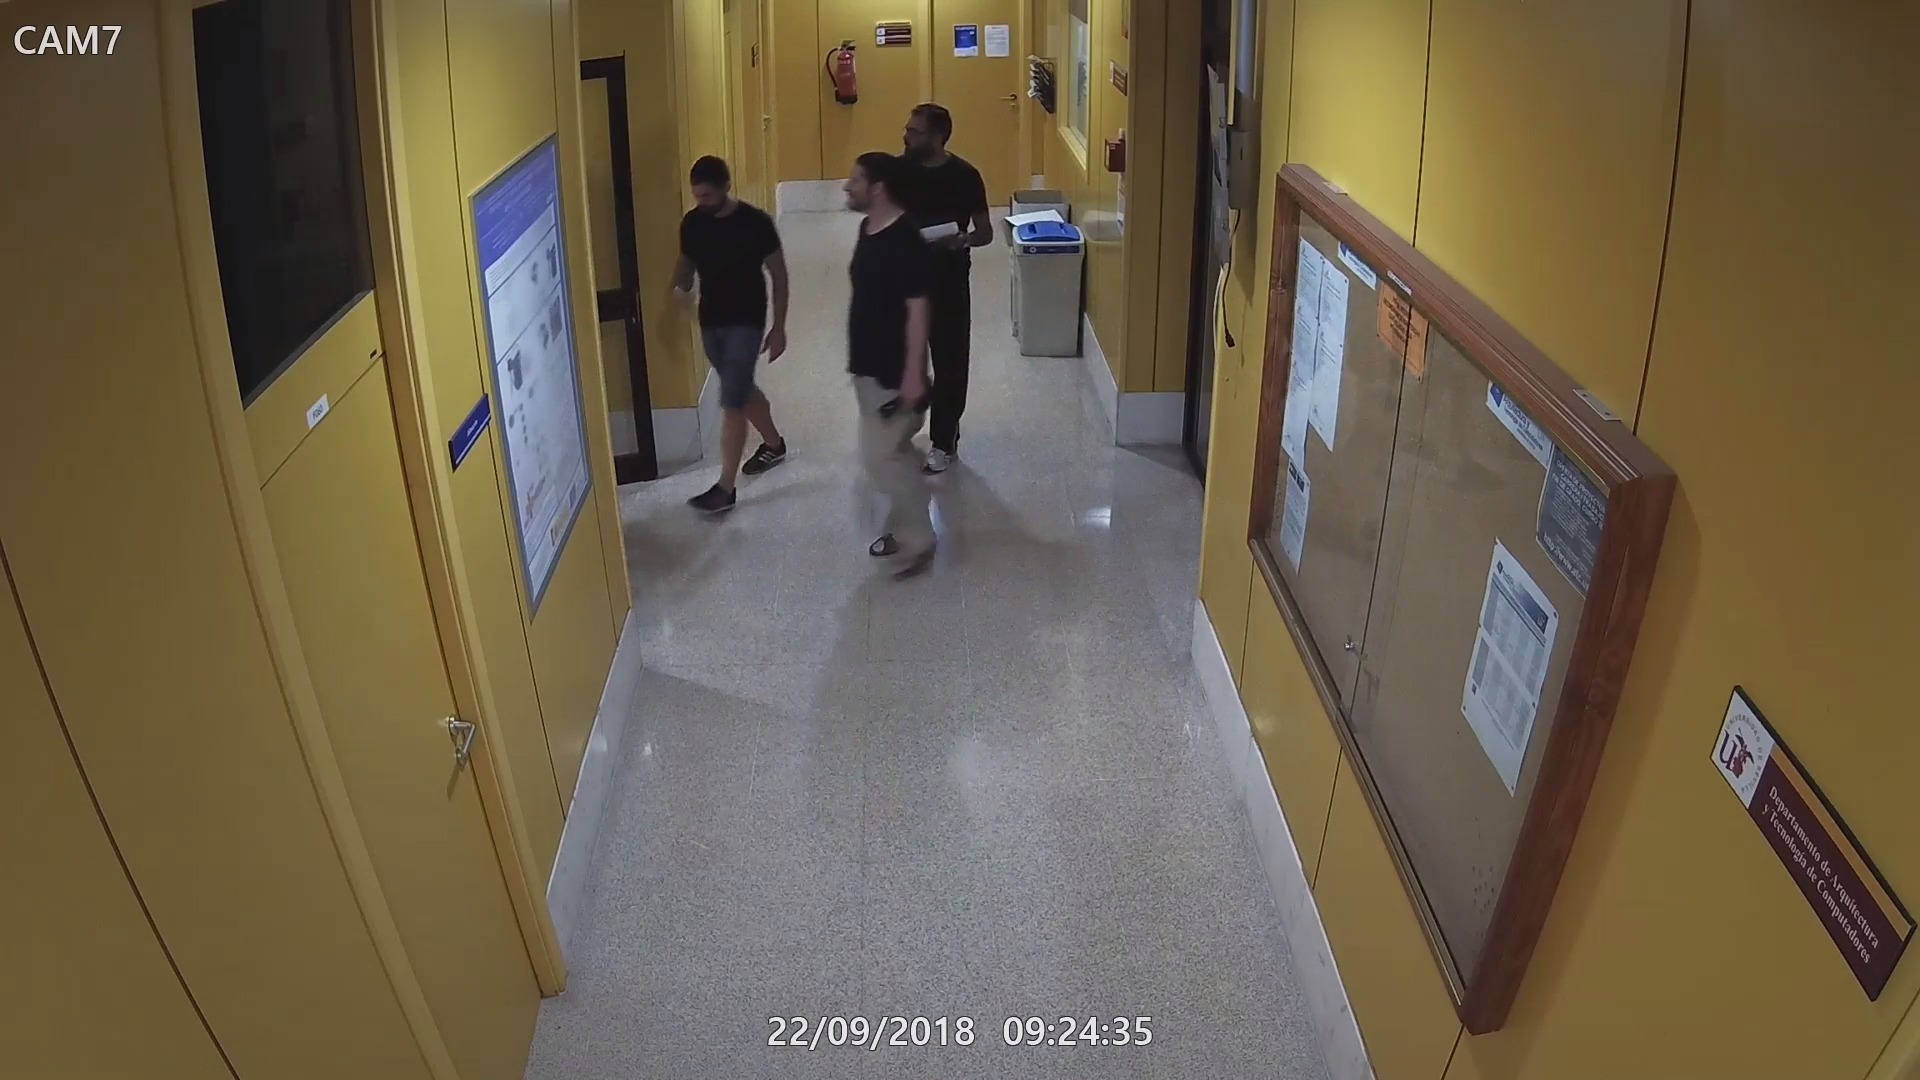Handgun: (671, 278, 698, 306)
